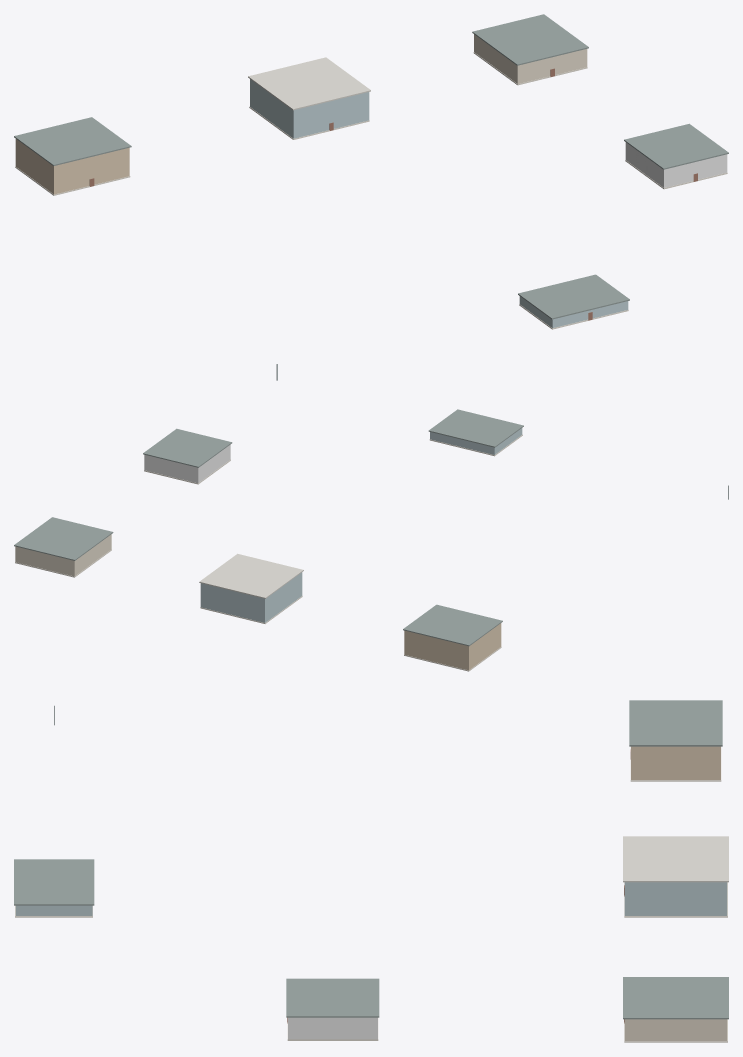
Rendered from chunk_6_1_low.glb.
3 views of the same model, one above another, from view 1: azimuth 30°, elevation 25°; view 2: azimuth 150°, elevation 25°; view 3: azimuth 270°, elevation 25° (orthographic). The views are drawn at different scales.
Visible parts, largest first — view 1: city_roof_slate, city_wall_blue, city_roof_tile, city_wall_sand, city_wall_cream, city_brick, city_trim; view 2: city_roof_slate, city_wall_blue, city_roof_tile, city_wall_sand, city_wall_cream, city_brick, city_trim; view 3: city_roof_slate, city_roof_tile, city_wall_blue, city_wall_sand, city_wall_cream, city_brick, city_trim.
Boxes of the visible parts, x1=… form: city_roof_slate: x1=14, y1=14, x2=728, y2=319; city_wall_blue: x1=250, y1=79, x2=628, y2=328; city_roof_tile: x1=248, y1=57, x2=370, y2=110; city_wall_sand: x1=15, y1=139, x2=129, y2=194; city_wall_cream: x1=474, y1=34, x2=587, y2=83; city_brick: x1=625, y1=142, x2=727, y2=187; city_trim: x1=15, y1=52, x2=727, y2=329; city_roof_slate: x1=14, y1=409, x2=523, y2=646; city_wall_blue: x1=200, y1=428, x2=522, y2=622; city_roof_tile: x1=199, y1=553, x2=303, y2=598; city_wall_sand: x1=404, y1=623, x2=501, y2=670; city_wall_cream: x1=15, y1=534, x2=111, y2=576; city_brick: x1=144, y1=444, x2=230, y2=483; city_trim: x1=15, y1=434, x2=522, y2=671; city_roof_slate: x1=14, y1=700, x2=728, y2=1019; city_roof_tile: x1=623, y1=836, x2=728, y2=882; city_wall_blue: x1=15, y1=882, x2=727, y2=915; city_wall_sand: x1=631, y1=746, x2=720, y2=779; city_wall_cream: x1=624, y1=1019, x2=727, y2=1040; city_brick: x1=288, y1=1017, x2=377, y2=1039; city_trim: x1=15, y1=747, x2=727, y2=1042.
Size of what is drawn, in the model's own units: 175 by 9.51 by 167.
